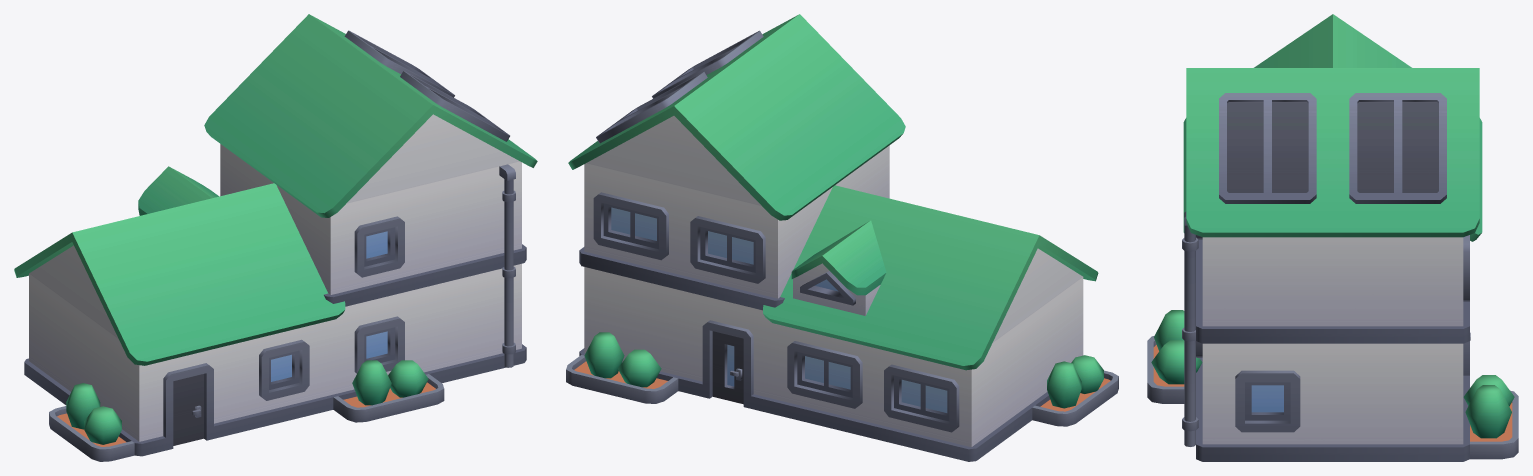
Rendered from kenney-city-suburban-building-type-b.glb.
The picture shows the model from 3 angles, left to right: view 1: azimuth 30°, elevation 25°; view 2: azimuth 150°, elevation 25°; view 3: azimuth 270°, elevation 25°; orthographic projection. The views are drawn at different scales.
Parts seen in each view (by area): view 1: building-type-b; view 2: building-type-b; view 3: building-type-b.
Part boxes in pixels (left/top/right/bottom): building-type-b: left=14, top=14, right=537, bottom=461; building-type-b: left=566, top=14, right=1118, bottom=461; building-type-b: left=1147, top=14, right=1518, bottom=461.
Bounding box in the file's own units: 1.83 × 1.14 × 1.14.
Materials: 1 (1 with a texture image).
